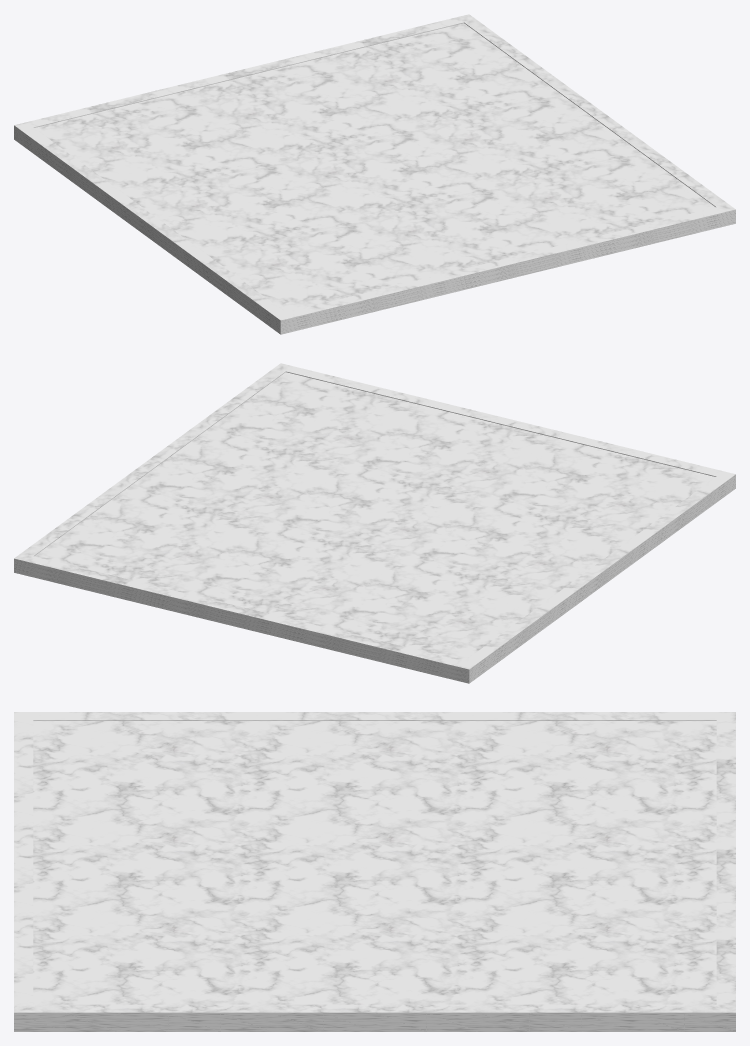
File: arena-lighter.glb
3 views of the same model, one above another, from view 1: azimuth 30°, elevation 25°; view 2: azimuth 150°, elevation 25°; view 3: azimuth 270°, elevation 25° (orthographic). The views are drawn at different scales.
Visible parts, largest first — view 1: Cube; view 2: Cube; view 3: Cube.
Boxes of the visible parts, x1=… form: Cube: x1=14, y1=14, x2=735, y2=334; Cube: x1=14, y1=363, x2=735, y2=683; Cube: x1=14, y1=712, x2=735, y2=1031.
Size of the model in its own units: 34.01 by 1.02 by 34.53.
Materials: 1 (1 with a texture image).
